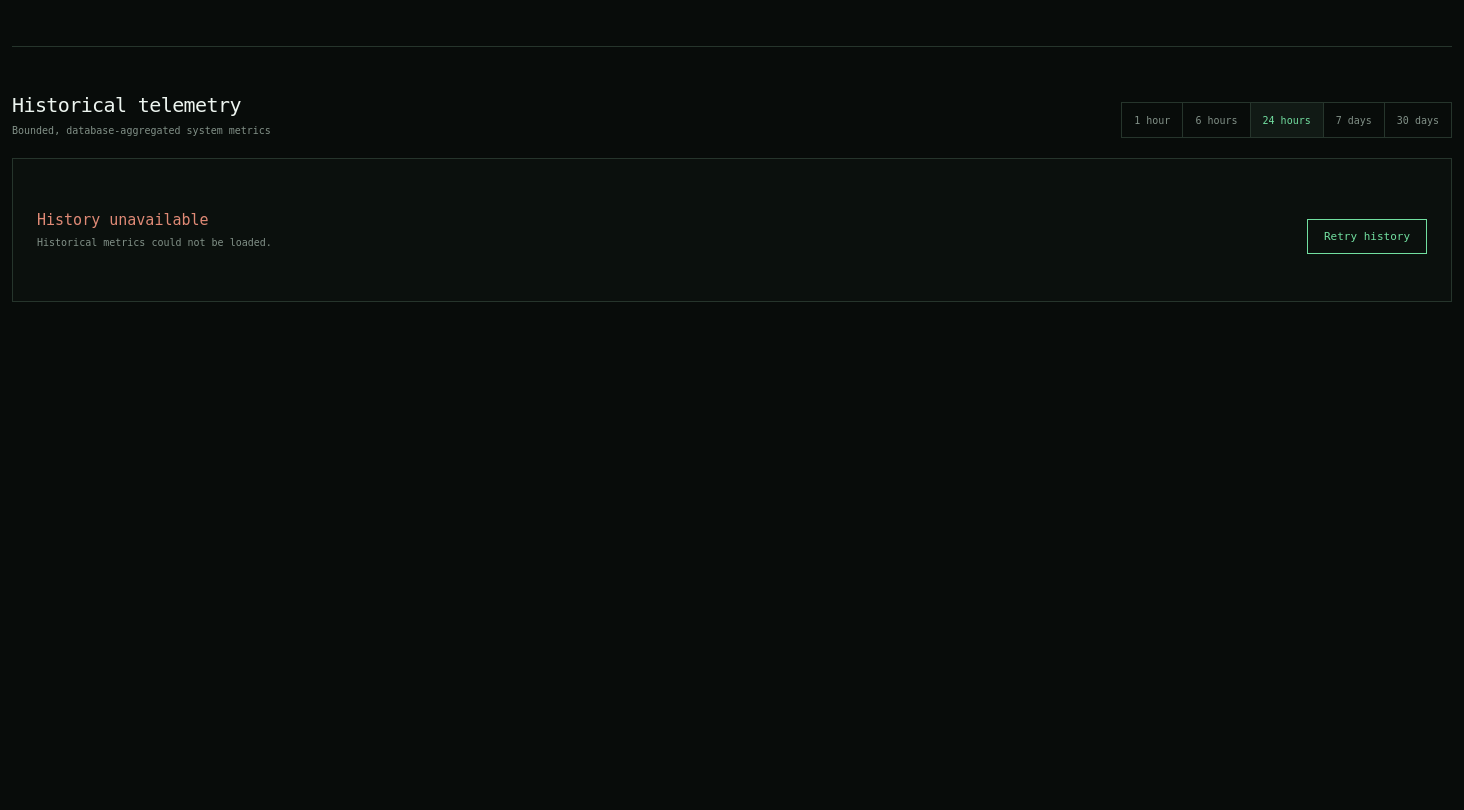
Test case: HistoryPanel › keeps errors local and retries the history request
The width and height of the screenshot is (1464, 810).
Expected: the heading "History unavailable" is shown, [37,210,209,228]
Click the button "Retry history" at (1367,236), box [1307,218,1427,254]
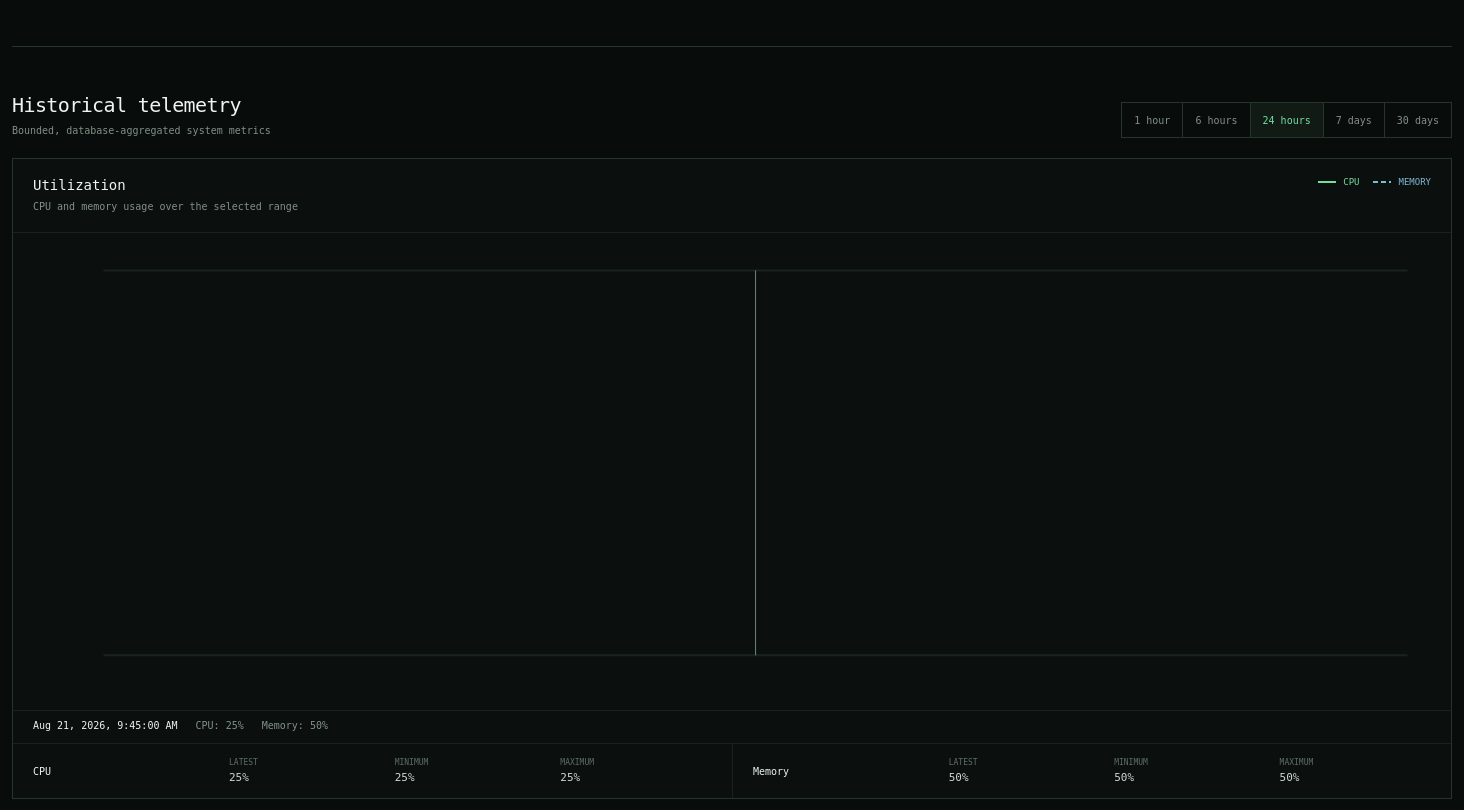
Expected: the element "Utilization" is shown
